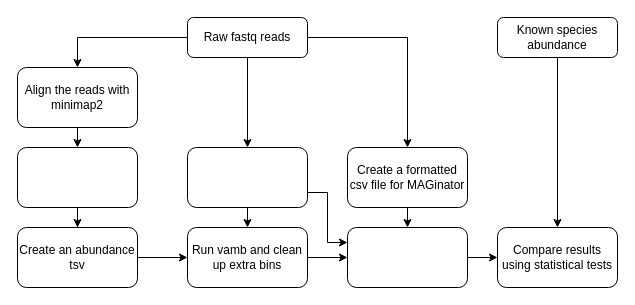
The diagram is 635 pixels wide and 305 high, and some of its shapes have lost their labels. Here are the shapes that lost their labels. From the top down, the box of each, then its label:
(16, 146, 138, 208): Use samtools and samstrip to create a BAM file
(186, 146, 308, 208): Create fasta file for MAGinator and vamb
(346, 226, 468, 288): Run MAGinator
